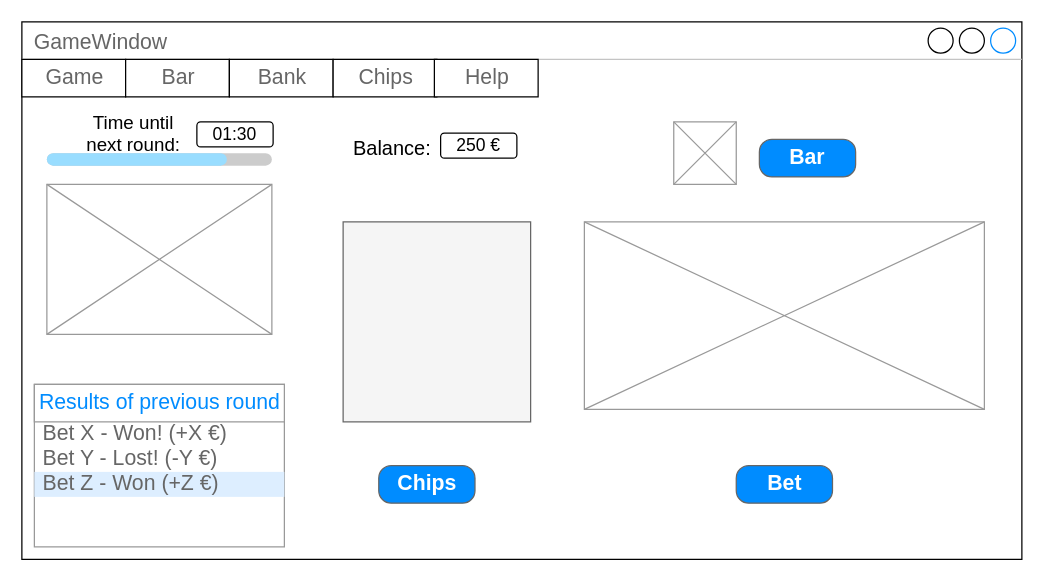
Some shapes in this 1044 by 581 pixel diagram are drawn without their labels. Here are the shapes that lost their labels. From the top down, the centre of each, then its label:
At [704,152]: "Bar icon".
At [159,258]: "Roulette".
At [436,321]: "Chips: - (5) x3 uds - (10) x2 uds - (20) x0 uds - (50) x1 uds - (100) x0 uds".
At [783,315]: "Table of bets".
